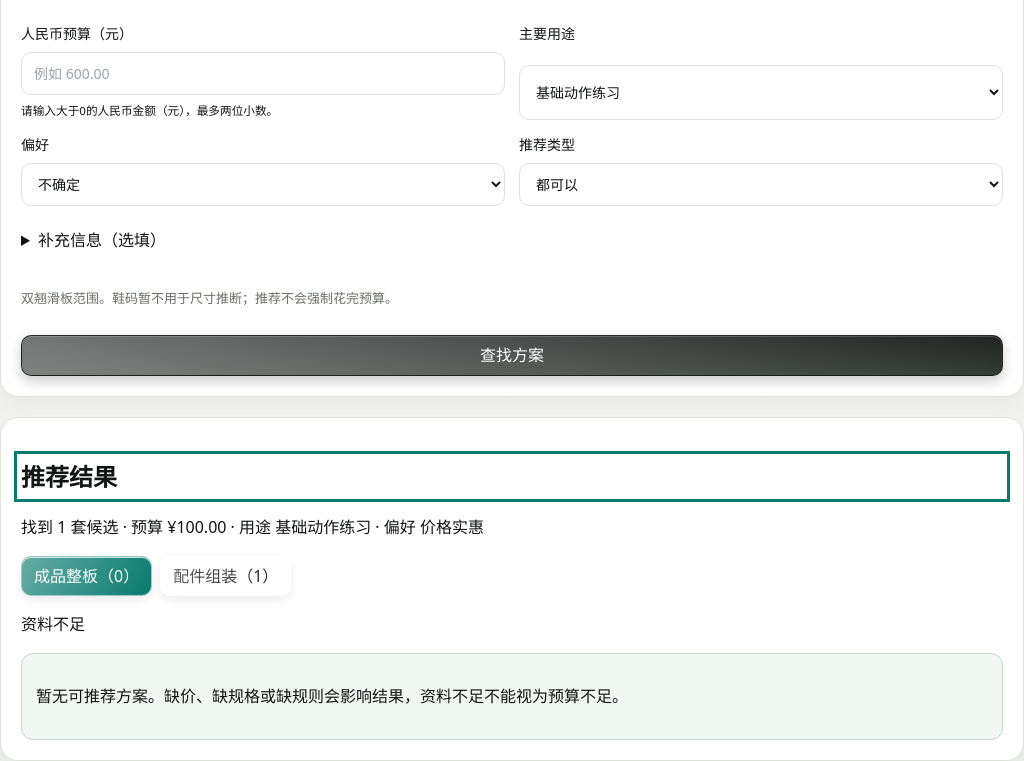
Scenario: SYNTHETIC frontend assistant state (not real catalog acceptance) › price conflict displays fresh result and requires prepare/confirm again
(page scrolled)
Click the tab "配件组装（1）" at (226, 576), box [160,556,291,596]
(page scrolled)
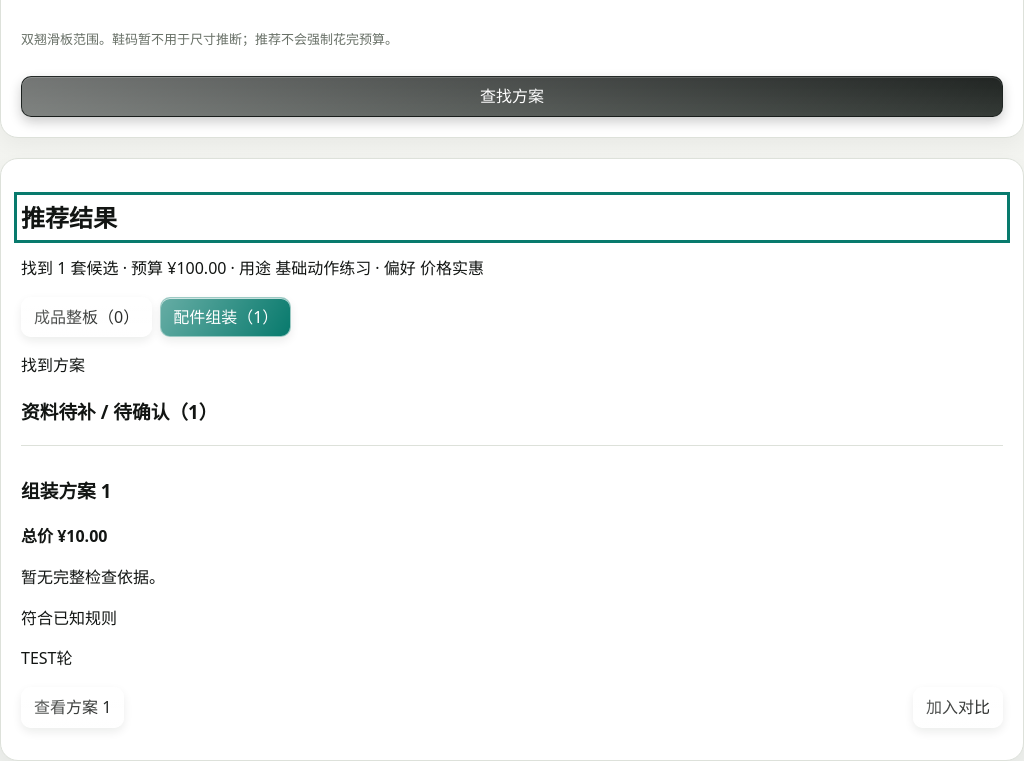
Click the button "查看方案 1" at (73, 708), box [21,687,124,728]
(page scrolled)
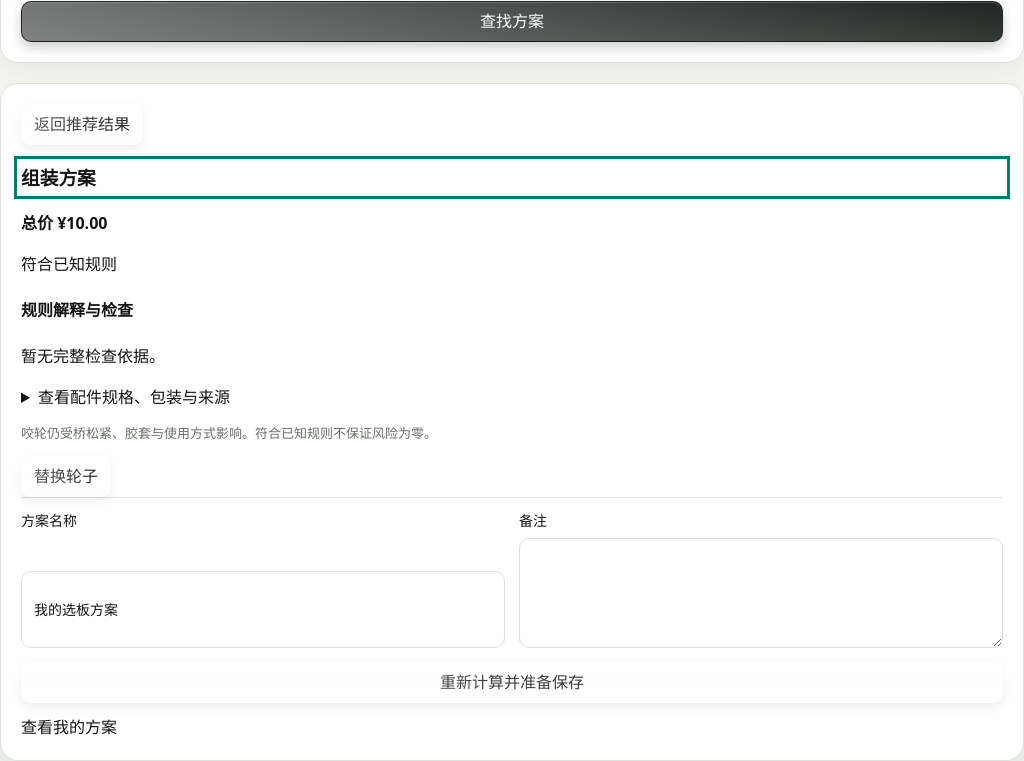
Submit the form with class "board-item", box [21,496,1003,715]
(page scrolled)
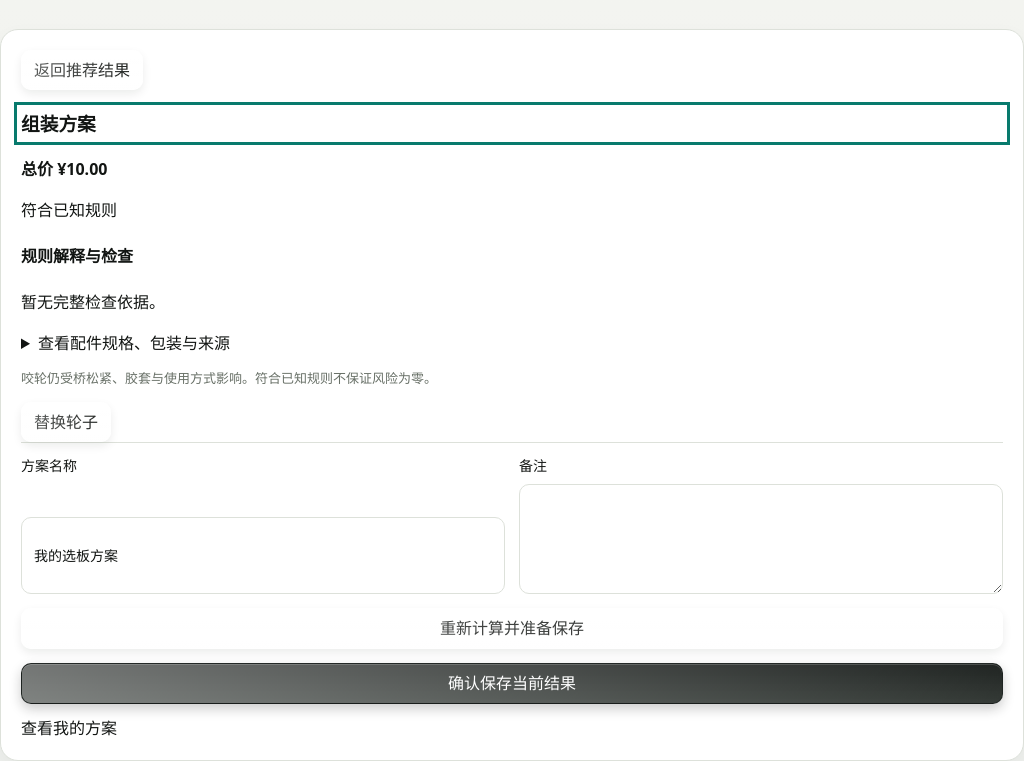
Click the button "确认保存当前结果" at (512, 683), box [21,663,1003,704]
(page scrolled)
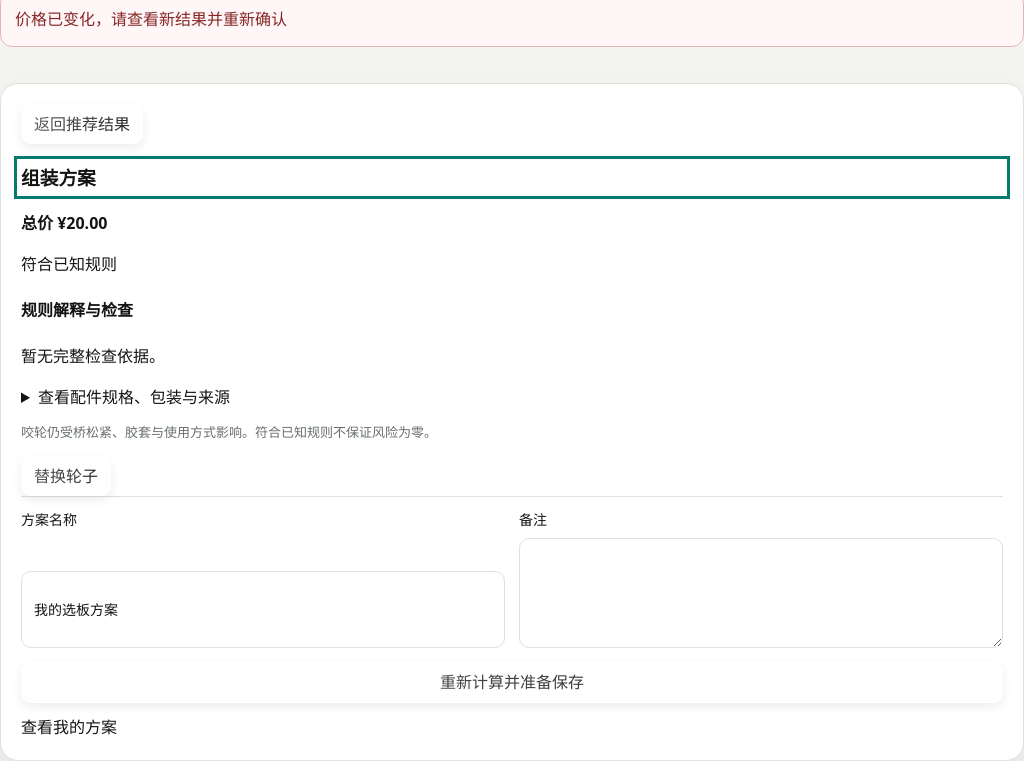
Result: the text "¥20.00" is shown at [21,212,108,234]
Result: the text "重新确认" is shown at [15,8,287,30]
